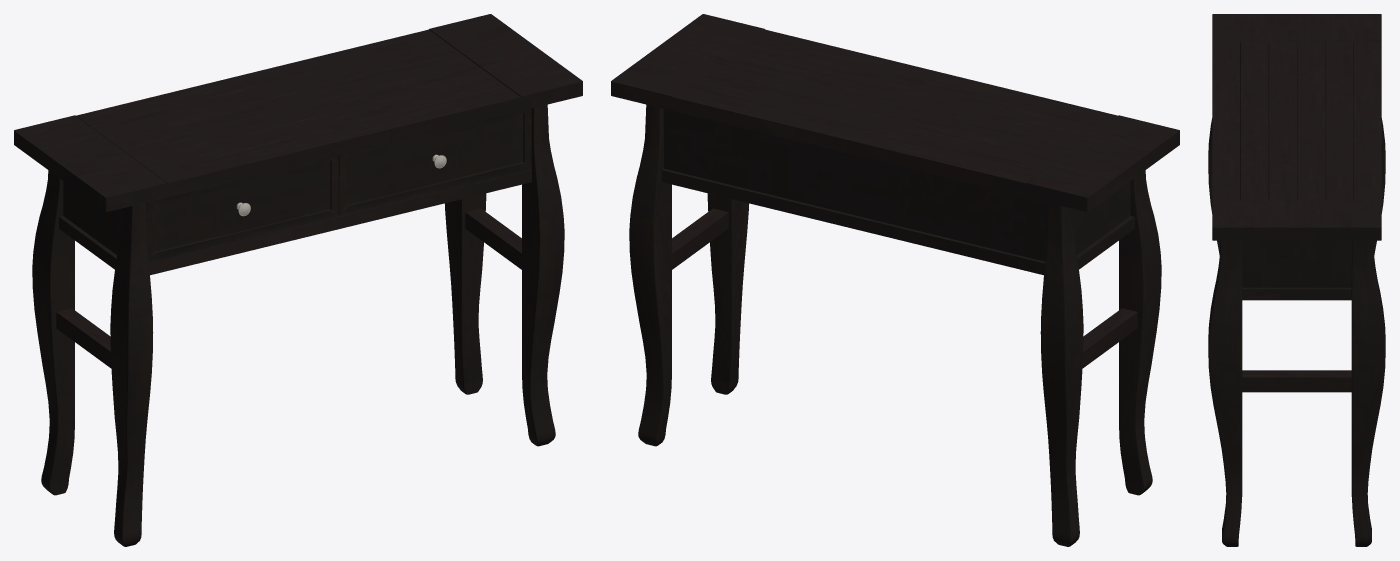
The model's file is abo-B07MM5H3HX.glb.
3 renders of one model, left to right at view 1: azimuth 30°, elevation 25°; view 2: azimuth 150°, elevation 25°; view 3: azimuth 270°, elevation 25°, orthographic. The views are drawn at different scales.
Size of the model in its own units: 1.06 by 0.768 by 0.373.
1 material, 1 textured.
